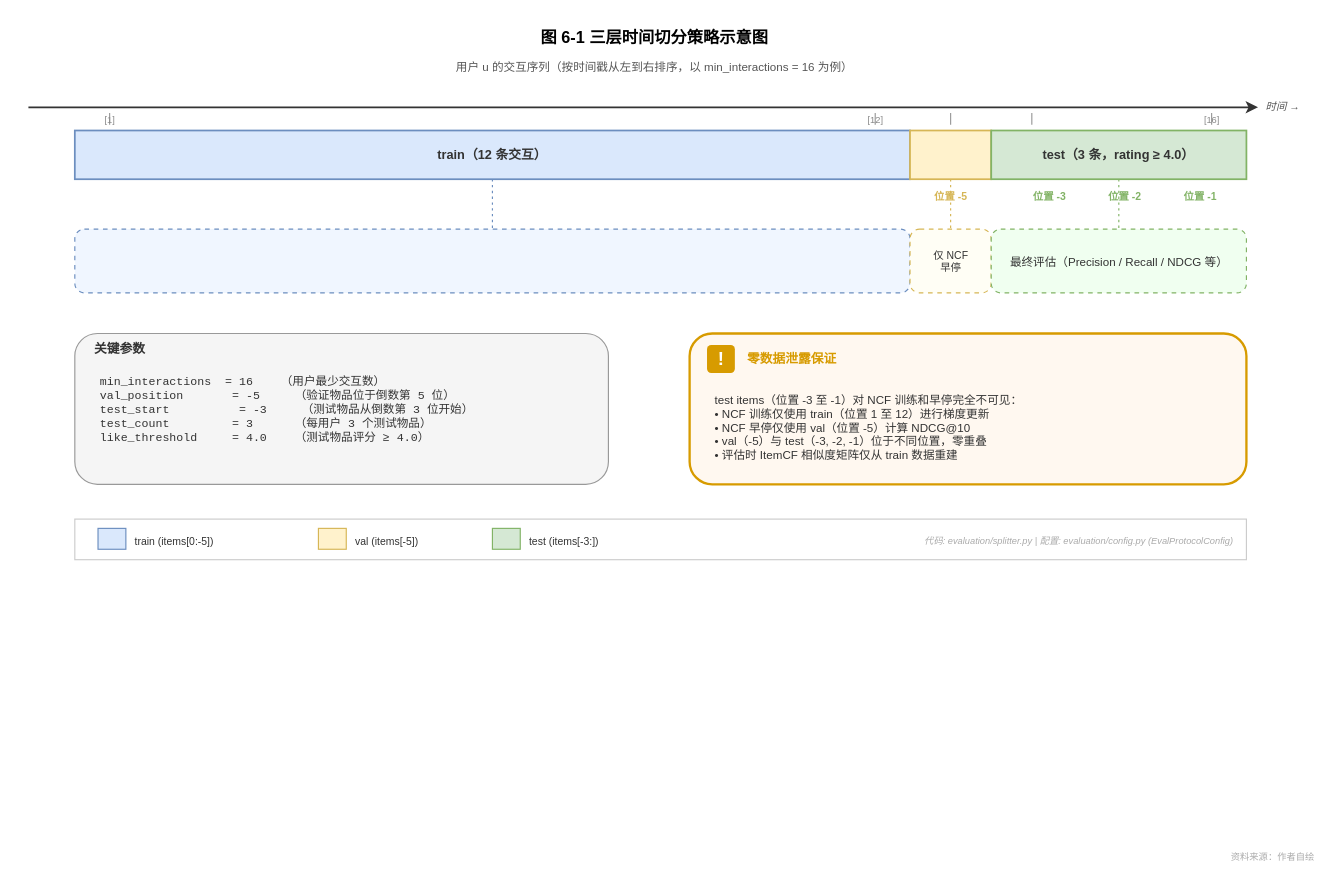
The diagram is 1342 pixels wide and 883 high, and some of its shapes have lost their labels. The centre of each missing label's shape, as x and y in pixels:
val: the point at 950,154
用于 ItemCF 相似度计算 + NCF 梯度更新: the point at 492,260
